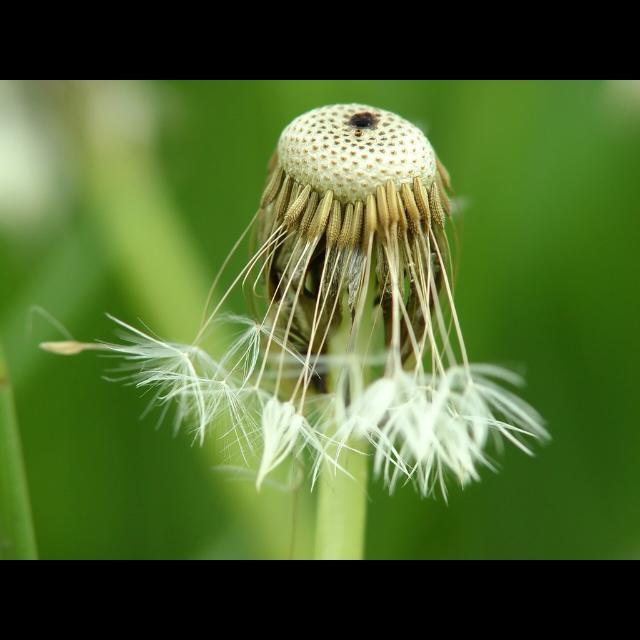Flower: (89, 100, 559, 493)
